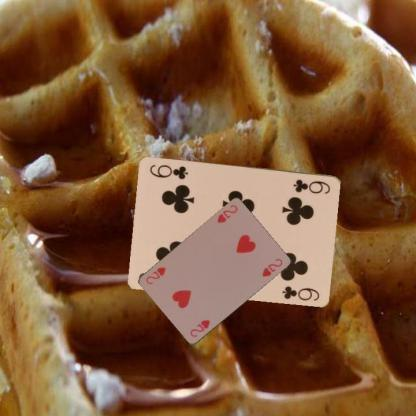2h: (187, 317, 212, 339), (214, 202, 239, 224)
6c: (290, 177, 332, 196)
